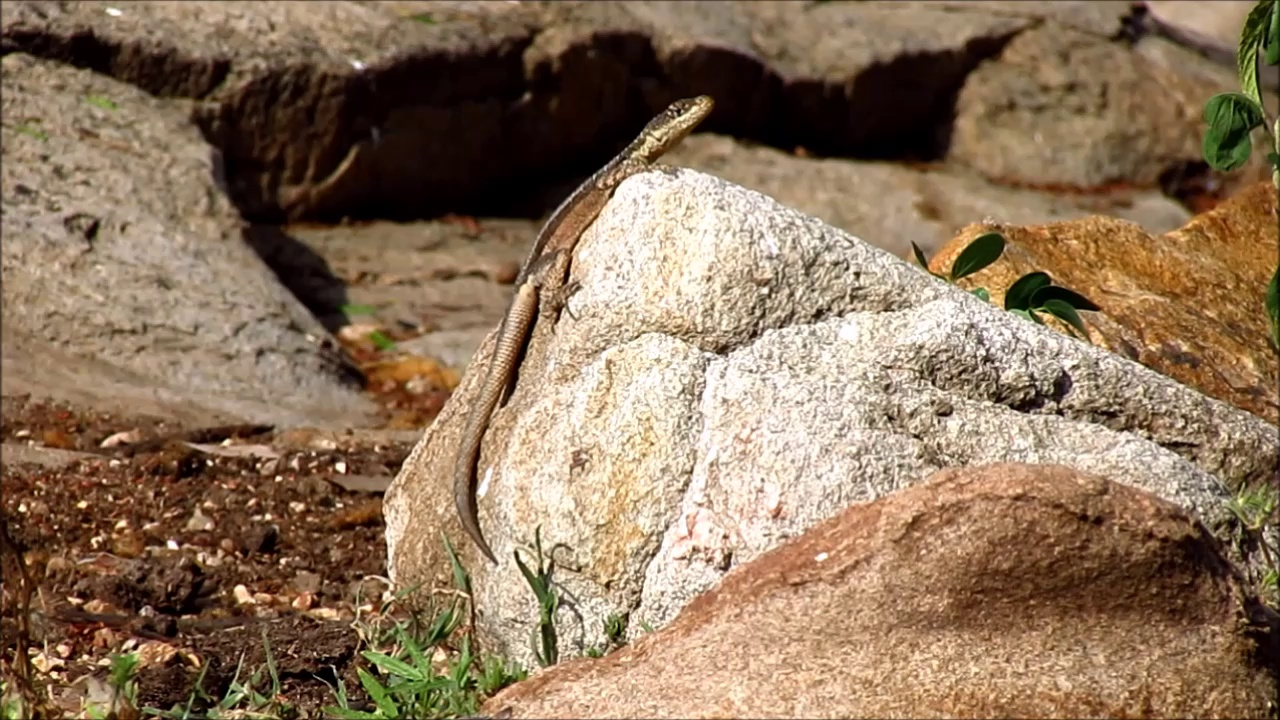body: (454, 135, 638, 566)
head: (637, 95, 714, 154)
